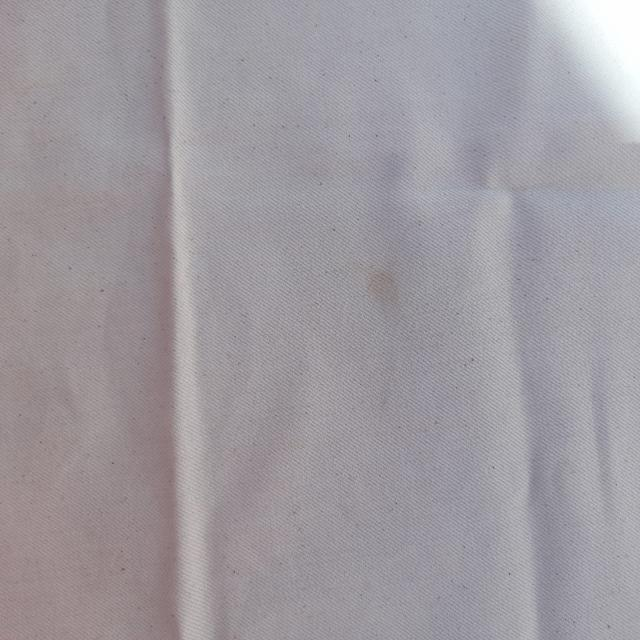taaaches: (364, 262, 409, 314)
